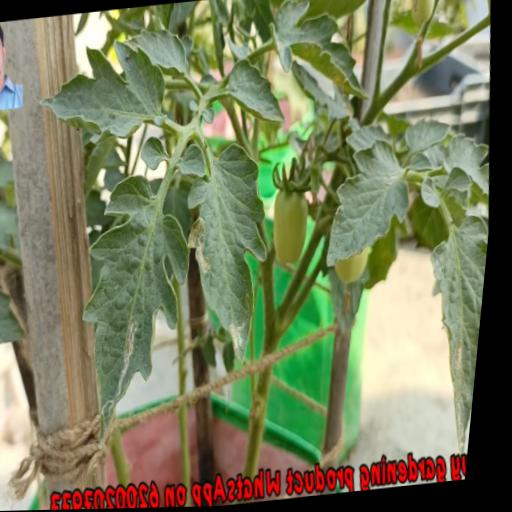Healthy: (30, 30, 174, 151), (317, 132, 423, 272), (221, 53, 292, 131)
Leaf_Miner: (64, 168, 216, 453), (171, 136, 290, 376), (414, 213, 495, 456)
